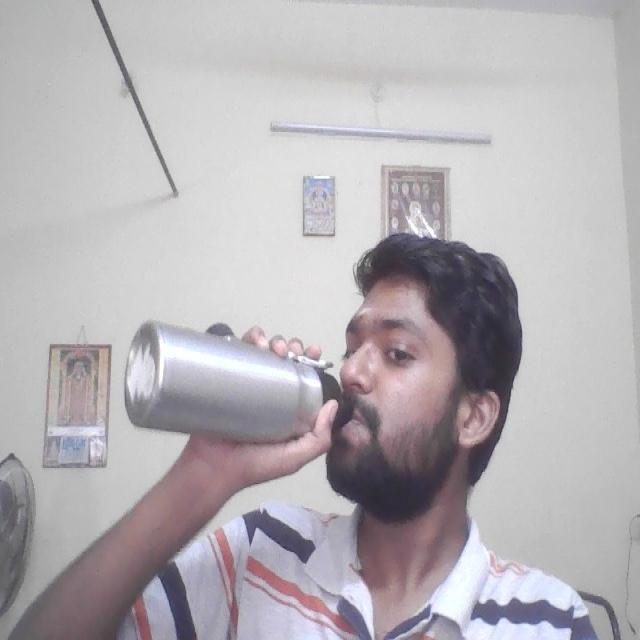Drinking: (117, 313, 361, 454)
